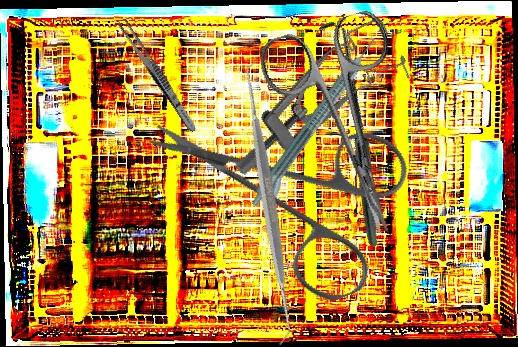Dressing Forceps: (115, 17, 200, 135)
Handpiece: (247, 34, 388, 215)
Hook Surgical: (236, 17, 465, 248)
Iris Scissors: (144, 45, 445, 343), (253, 6, 442, 253)
Spatula Surgical: (123, 58, 414, 347)
Speculum: (203, 13, 423, 179)
